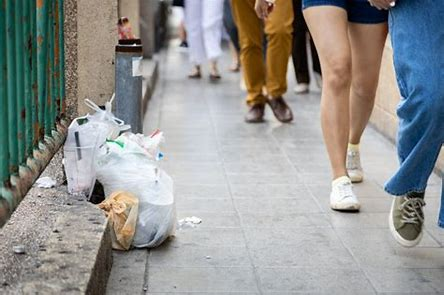garbage: (51, 96, 206, 254)
